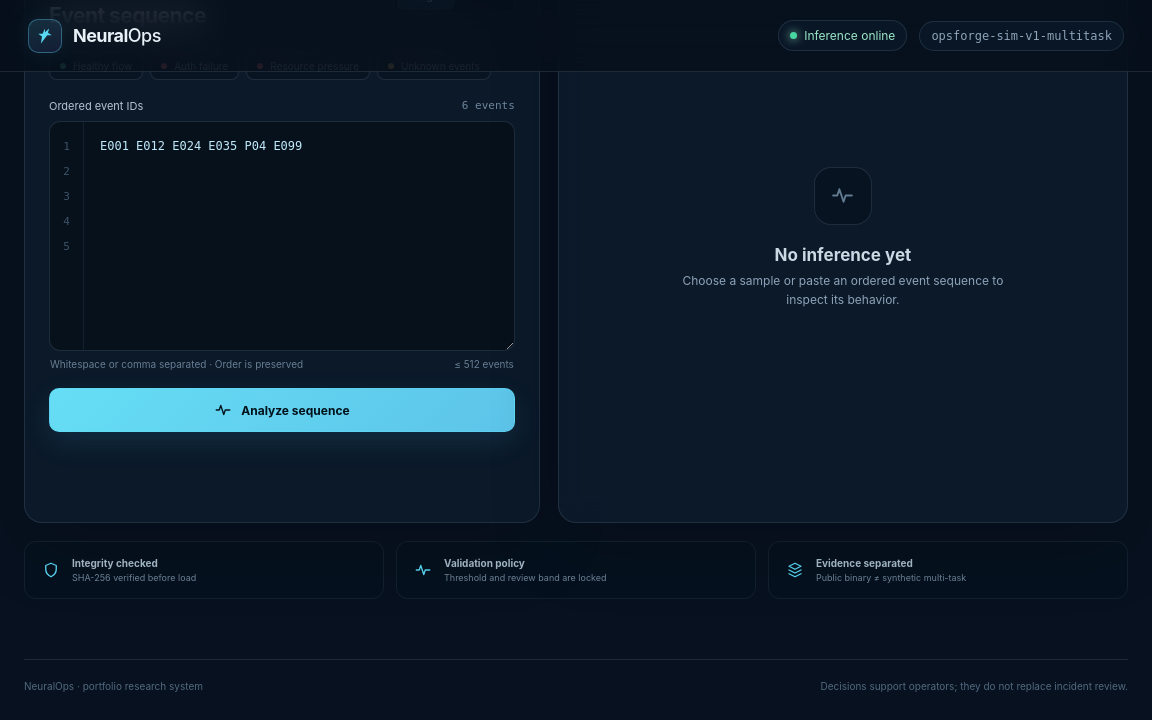
NeuralOps console › renders the validation-selected manual-review state
(page scrolled)
Click the button "Analyze sequence": (282, 410) [49,388,515,432]
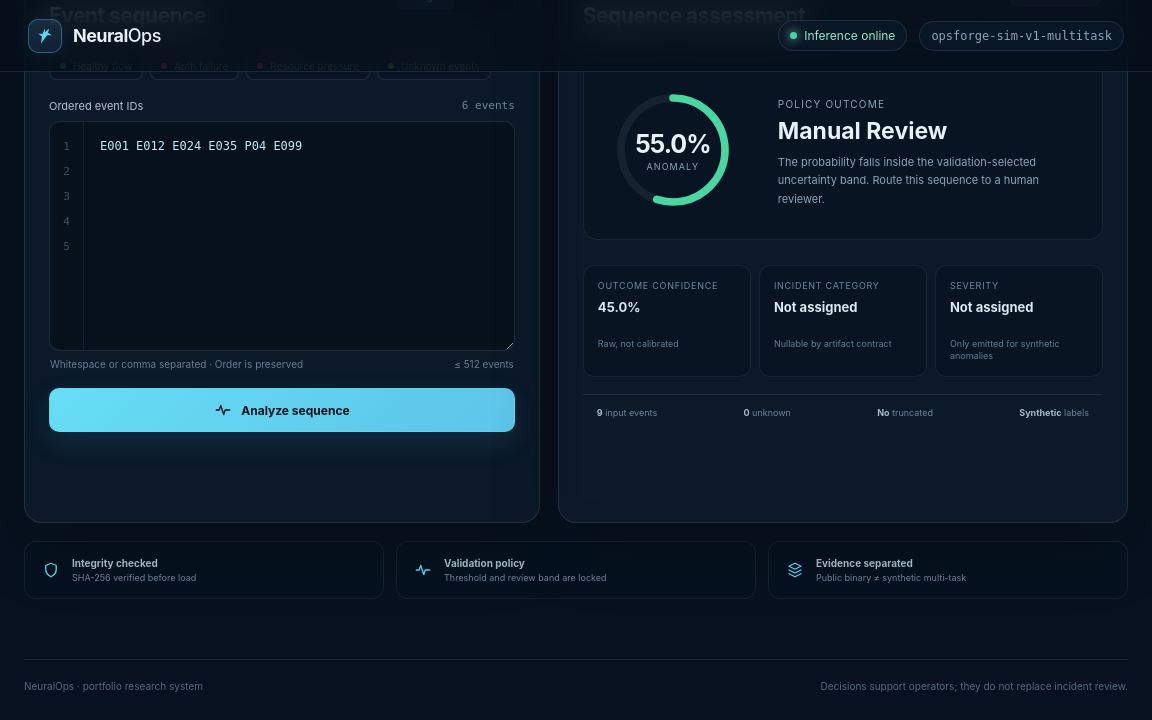
Expected: the text "uncertainty band" is shown, [778,155,1039,206]
